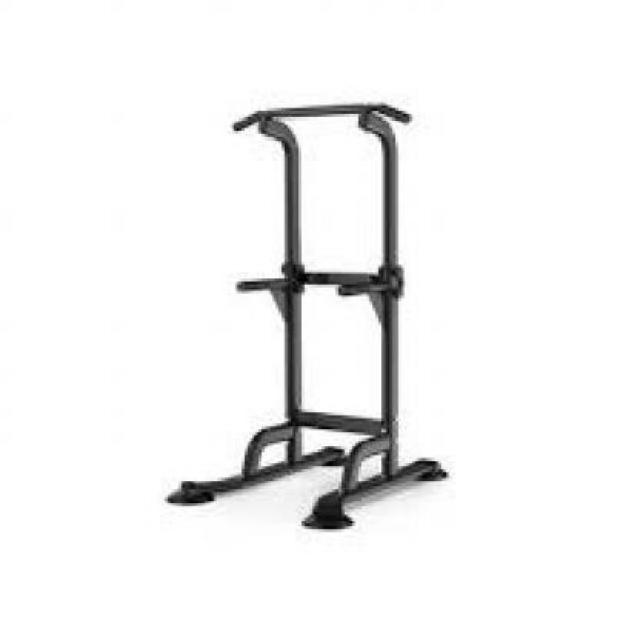chinning dipping: (162, 102, 446, 529)
